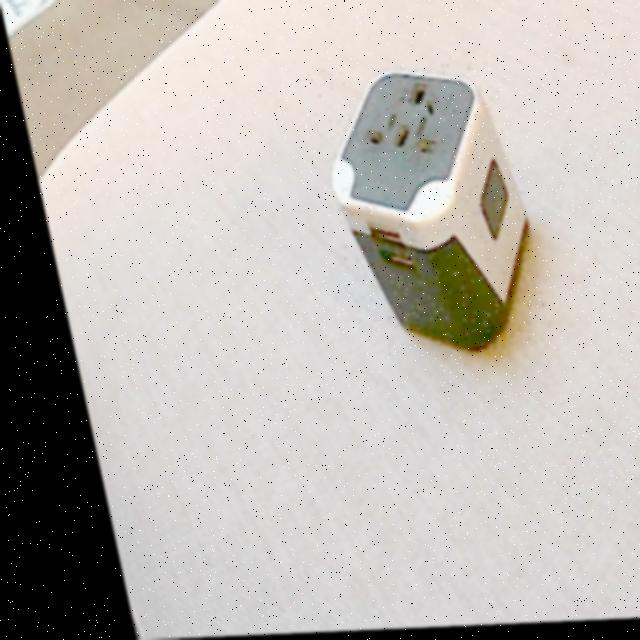adapter: (301, 67, 540, 358)
